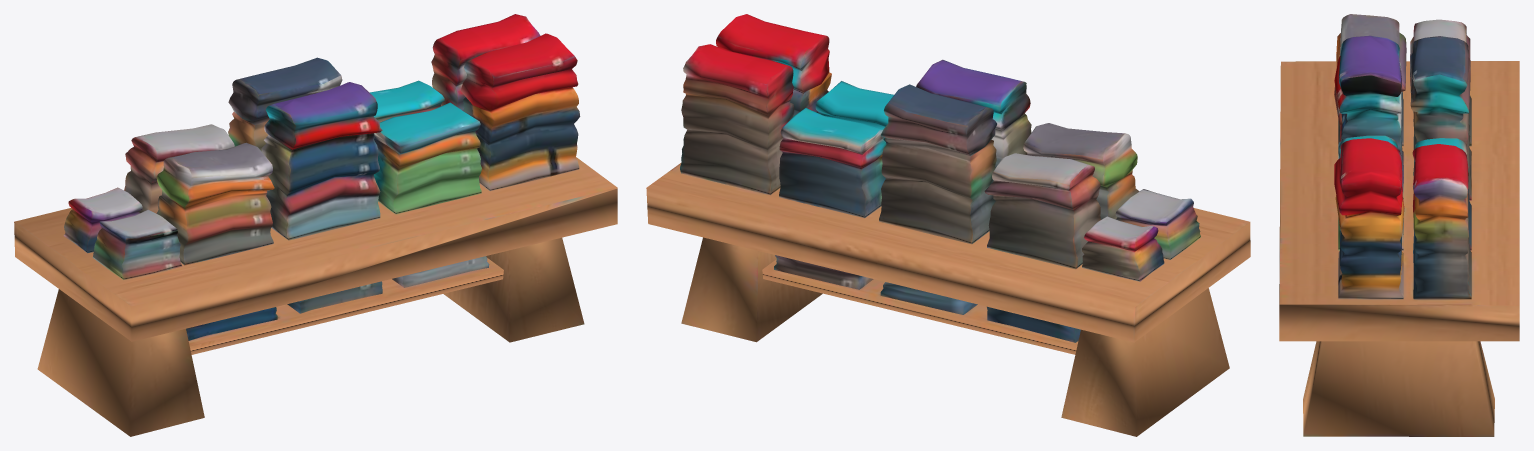
File: folded_table.glb
The picture shows the model from 3 angles, left to right: view 1: azimuth 30°, elevation 25°; view 2: azimuth 150°, elevation 25°; view 3: azimuth 270°, elevation 25°; orthographic projection. The views are drawn at different scales.
Size of the model in its own units: 0.9556 by 0.4947 by 0.3965.
1 material, 1 textured.
